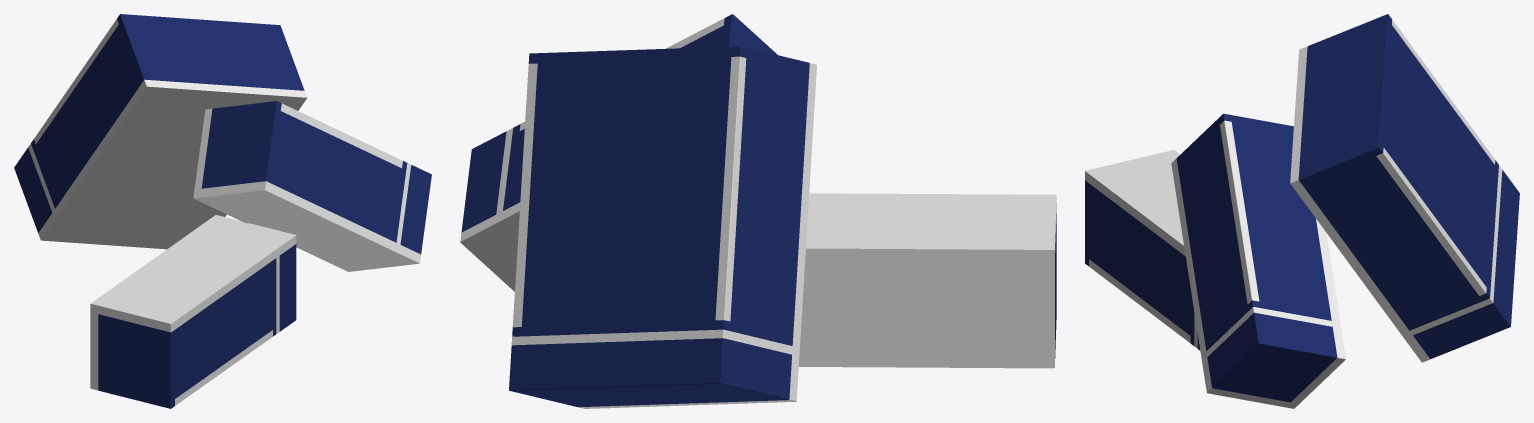
Rendered from Breakable_Box_Roboh.fbx.
3 views of the same model, side by side, from view 1: azimuth 30°, elevation 25°; view 2: azimuth 150°, elevation 25°; view 3: azimuth 270°, elevation 25° (orthographic). The views are drawn at different scales.
Parts seen in each view (by area): view 1: Box 1, Box 3, Box 2; view 2: Box 1, Box 3, Box 2; view 3: Box 1, Box 2, Box 3.
Boxes of the visible parts, left/top/right/bottom form: Box 1: left=14, top=14, right=306, bottom=249; Box 3: left=90, top=215, right=296, bottom=408; Box 2: left=193, top=101, right=431, bottom=271; Box 1: left=509, top=46, right=816, bottom=408; Box 3: left=798, top=193, right=1056, bottom=368; Box 2: left=460, top=14, right=815, bottom=291; Box 1: left=1290, top=14, right=1519, bottom=362; Box 2: left=1171, top=113, right=1345, bottom=408; Box 3: left=1085, top=150, right=1200, bottom=350.
Size of the model in its own units: 234 by 160 by 212.
